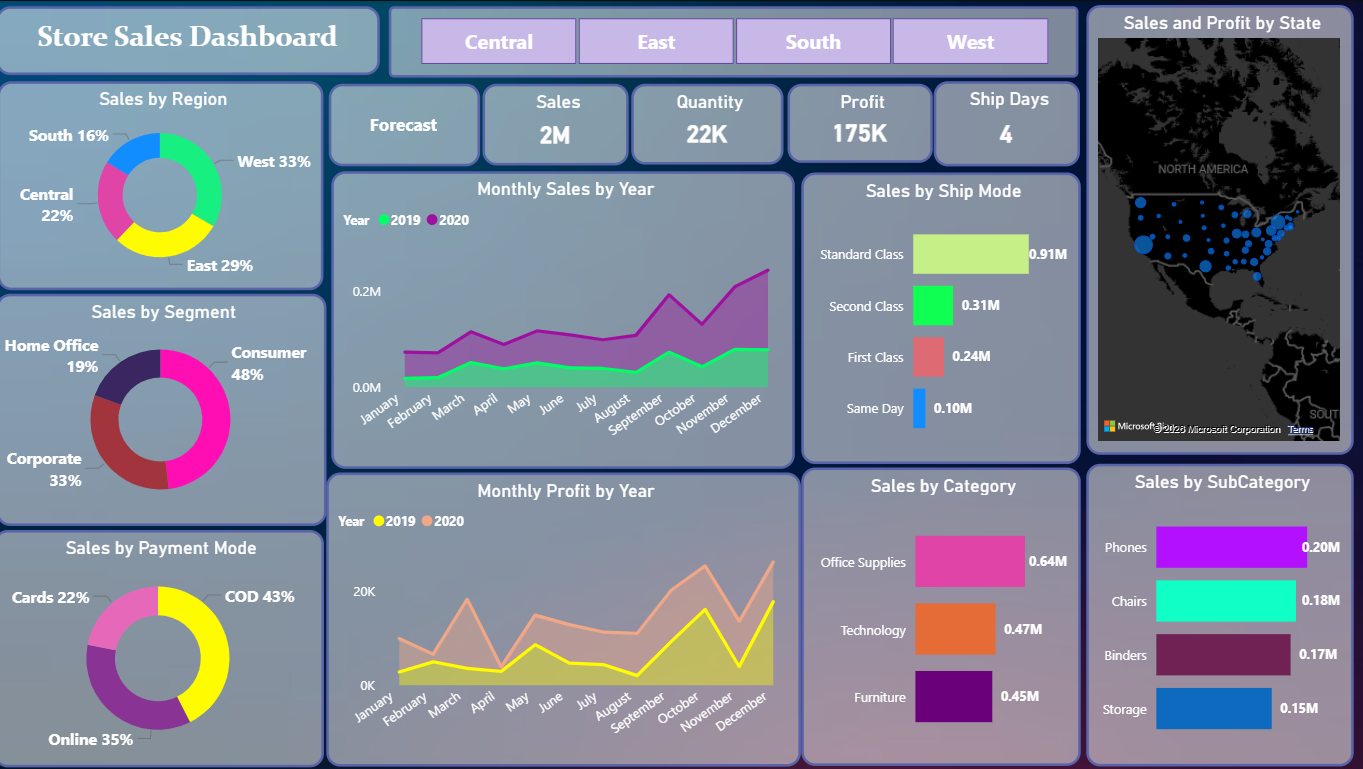

What the dashboard file says about the page in this screenshot:
{"tool":"powerbi","page":{"name":"Dashboard","canvas":[1280,720],"ordinal":0},"visuals":[{"type":"clusteredBarChart","title":"Sales by Category","fields":{"Y":["Sum(Sheet1.Sales)"],"Category":["Sheet1.Category"]},"box":[755,435,260,277.5],"z":0},{"type":"clusteredBarChart","title":"Sales by SubCategory","fields":{"Y":["Sum(Sheet1.Sales)"],"Category":["Sheet1.Sub-Category"]},"box":[1019.8,431.4,248.8,281.4],"z":1000},{"type":"clusteredBarChart","title":"Sales by Ship Mode","fields":{"Y":["Sum(Sheet1.Sales)"],"Category":["Sheet1.Ship Mode"]},"box":[754.8,160.8,260.2,271.3],"z":2000},{"type":"stackedAreaChart","title":"Monthly Sales by Year","fields":{"Category":["Sheet1.Order Date.Variation.Date Hierarchy.Month","Sheet1.Order Date.Variation.Date Hierarchy.Day"],"Y":["Sum(Sheet1.Sales)"],"Series":["Sheet1.Order Date.Variation.Date Hierarchy.Year"]},"box":[317.4,159.3,431.4,276.7],"z":3000},{"type":"stackedAreaChart","title":"Monthly Profit by Year","fields":{"Category":["Sheet1.Order Date.Variation.Date Hierarchy.Month","Sheet1.Order Date.Variation.Date Hierarchy.Day"],"Series":["Sheet1.Order Date.Variation.Date Hierarchy.Year"],"Y":["Sum(Sheet1.Profit)"]},"box":[312.5,440,441.2,273.8],"z":4000},{"type":"map","title":"Sales and Profit by State","fields":{"Category":["Sheet1.State"],"Size":["Sum(Sheet1.Sales)"]},"box":[1019.8,4.7,248.8,418.6],"z":5000},{"type":"donutChart","title":"Sales by Segment","fields":{"Category":["Sheet1.Segment"],"Y":["Sum(Sheet1.Sales)"]},"box":[5.8,273.3,307,216.3],"z":6000},{"type":"donutChart","title":"Sales by Payment Mode","fields":{"Category":["Sheet1.Payment Mode"],"Y":["Sum(Sheet1.Sales)"]},"box":[3.5,493,307,220.9],"z":7000},{"type":"textbox","box":[5.8,5.8,357,64],"z":8000},{"type":"card","title":"Sales","fields":{"Values":["Sum(Sheet1.Sales)"]},"box":[458,78.4,136.4,76.1],"z":9000},{"type":"card","title":"Quantity","fields":{"Values":["Sum(Sheet1.Quantity)"]},"box":[596.5,77.9,141.9,75.6],"z":10000},{"type":"card","title":"Profit","fields":{"Values":["Sum(Sheet1.Profit)"]},"box":[741.4,78.2,135.1,73.7],"z":11000},{"type":"card","title":"Ship Days","fields":{"Values":["Avg(Super Sales Data.AvgDelivery)"]},"box":[877.9,75.6,136,79.1],"z":12000},{"type":"donutChart","title":"Sales by Region","fields":{"Y":["Sum(Sheet1.Sales)"],"Category":["Super Sales Data.Region"]},"box":[7,75.6,303.5,194.2],"z":13000},{"type":"pageNavigator","box":[315.1,77.9,140.7,76.7],"z":14000},{"type":"slicer","fields":{"Values":["Sheet1.Region"]},"box":[370.9,5.8,641.9,66.3],"z":15000}]}

Visuals, with their boxes in screenshot pixels (x1, y1, x2, y2), scaled from the page's 1280x720 canvas onto the 1363x769 screenshot:
"Sales by Category" clusteredBarChart: [804,465,1081,761]
"Sales by SubCategory" clusteredBarChart: [1086,461,1351,761]
"Sales by Ship Mode" clusteredBarChart: [804,172,1081,462]
"Monthly Sales by Year" stackedAreaChart: [338,170,797,466]
"Monthly Profit by Year" stackedAreaChart: [333,470,803,762]
"Sales and Profit by State" map: [1086,5,1351,452]
"Sales by Segment" donutChart: [6,292,333,523]
"Sales by Payment Mode" donutChart: [4,527,331,762]
textbox: [6,6,386,75]
"Sales" card: [488,84,633,165]
"Quantity" card: [635,83,786,164]
"Profit" card: [789,84,933,162]
"Ship Days" card: [935,81,1080,165]
"Sales by Region" donutChart: [7,81,331,288]
pageNavigator: [336,83,485,165]
slicer - Sheet1.Region: [395,6,1078,77]
